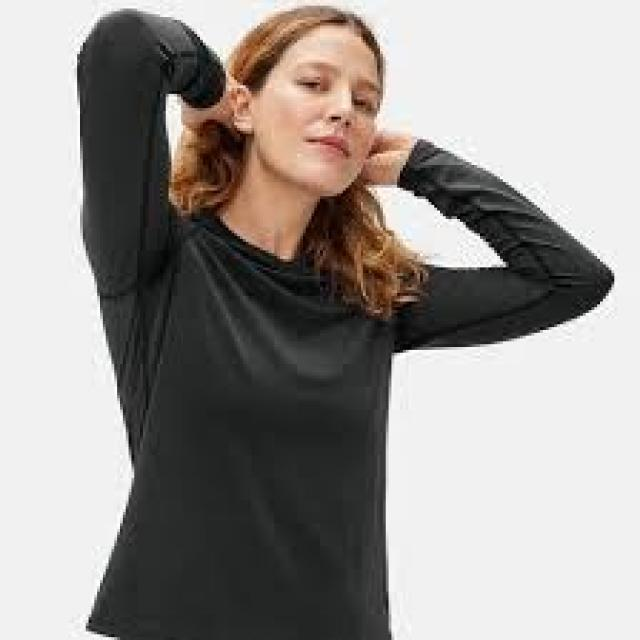plain: (57, 159, 407, 640)
